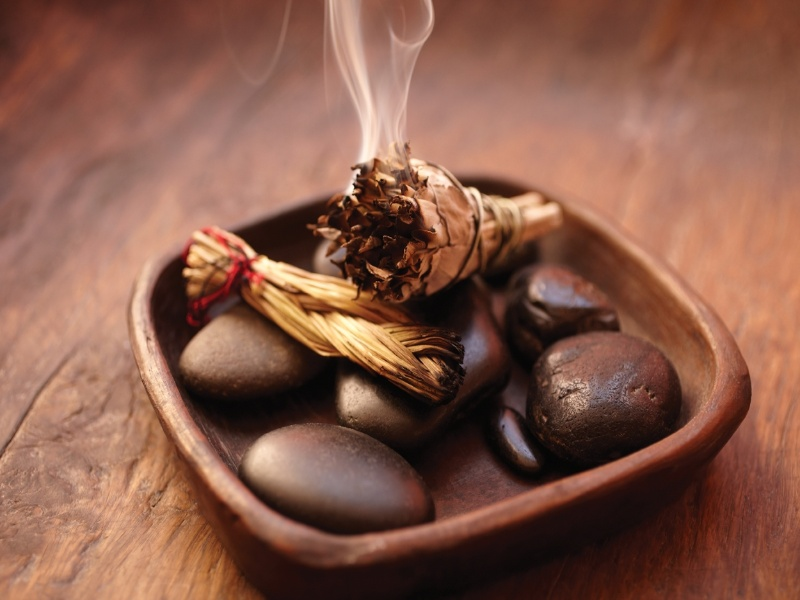smoke: (331, 1, 414, 164)
